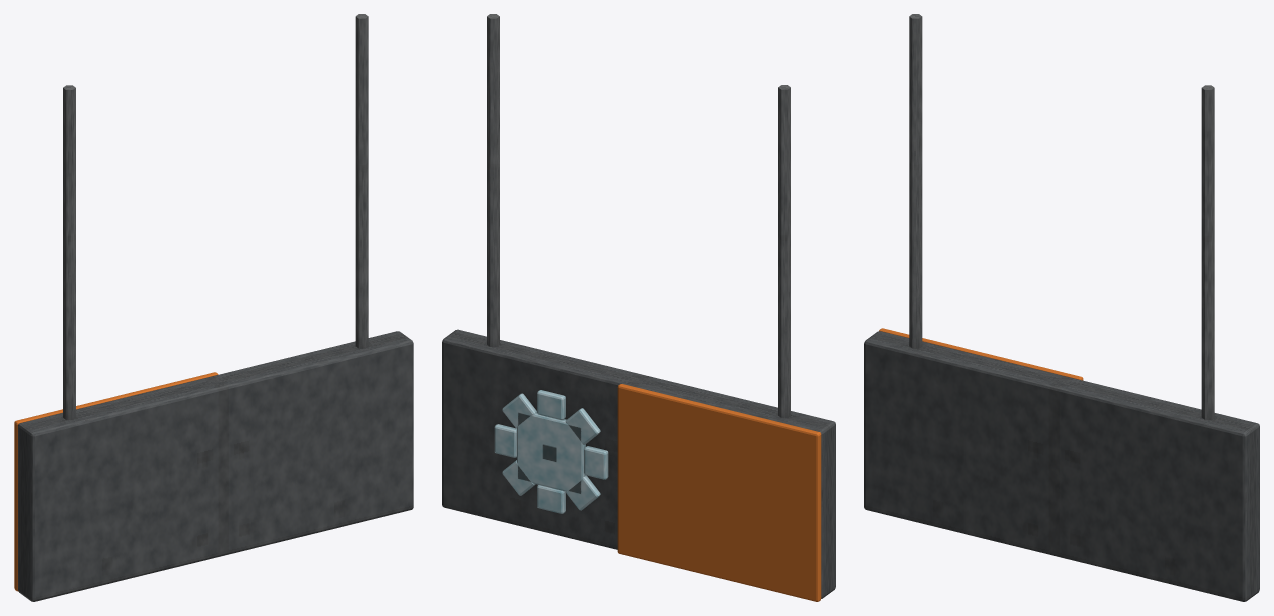
File: base_hanging_sign_workshop.glb
3 renders of one model, left to right at view 1: azimuth 30°, elevation 25°; view 2: azimuth 150°, elevation 25°; view 3: azimuth 330°, elevation 25°, orthographic.
Parts seen in each view (by area): view 1: base_hanging_sign_workshop; view 2: base_hanging_sign_workshop; view 3: base_hanging_sign_workshop.
Boxes of the visible parts, x1,y1,x2,y2 form: base_hanging_sign_workshop: (14, 14, 413, 601); base_hanging_sign_workshop: (442, 14, 835, 601); base_hanging_sign_workshop: (864, 14, 1259, 601).
Bounding box in the file's own units: 1.7 × 2.12 × 0.145.
3 materials, 3 textured.
